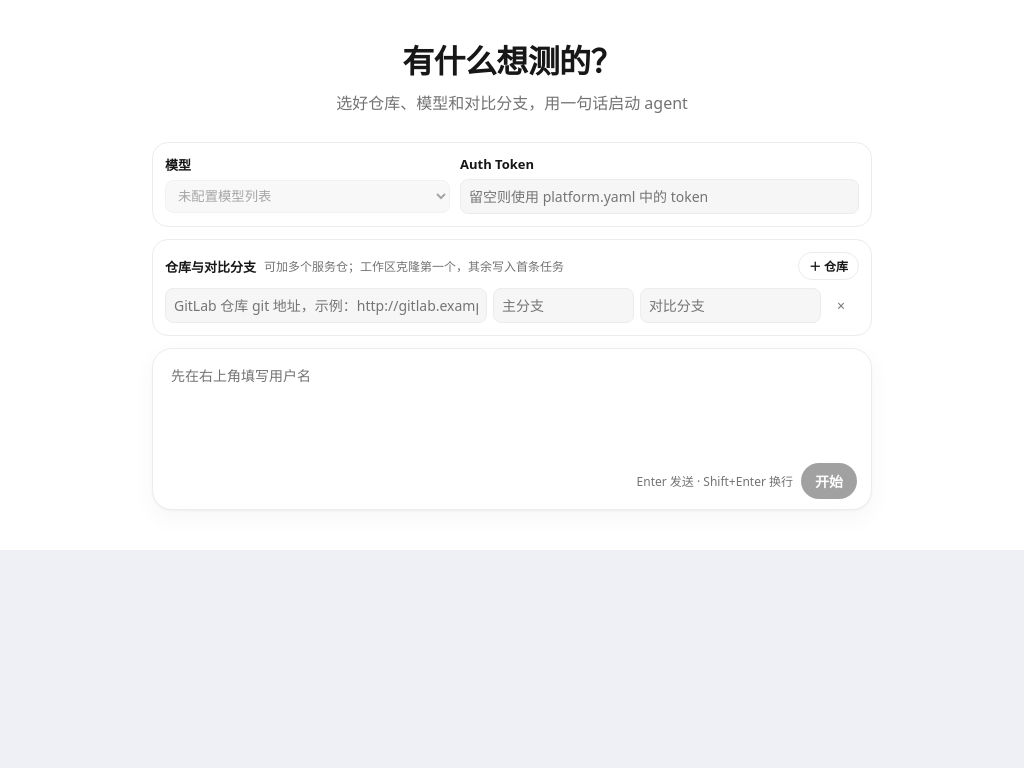
Test case: HomePanel model picker › requires username on start when yaml did not provide one
Replace the text in the field with placeholder "GitLab 仓库 git 地址，示例：http://gitlab.example.com/group/project.git" with "http://example.invalid/x.git" at (326, 306), box [165, 288, 487, 323]
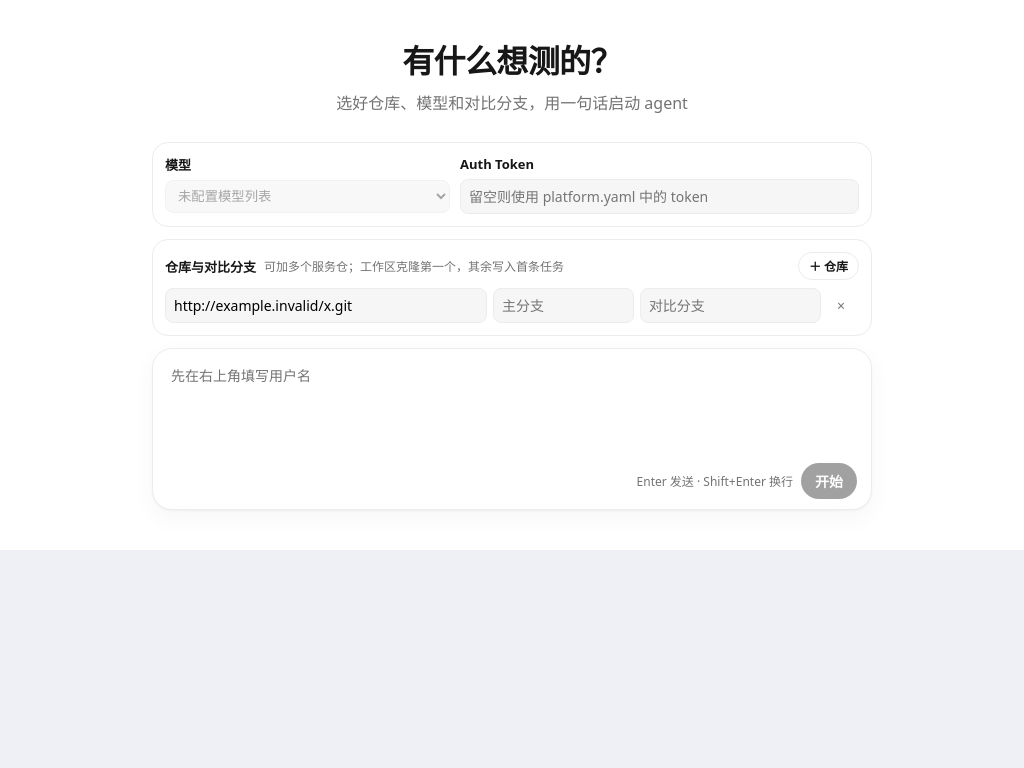
Type "feat/x" into the field with placeholder "对比分支" at (730, 306), box [640, 288, 821, 323]
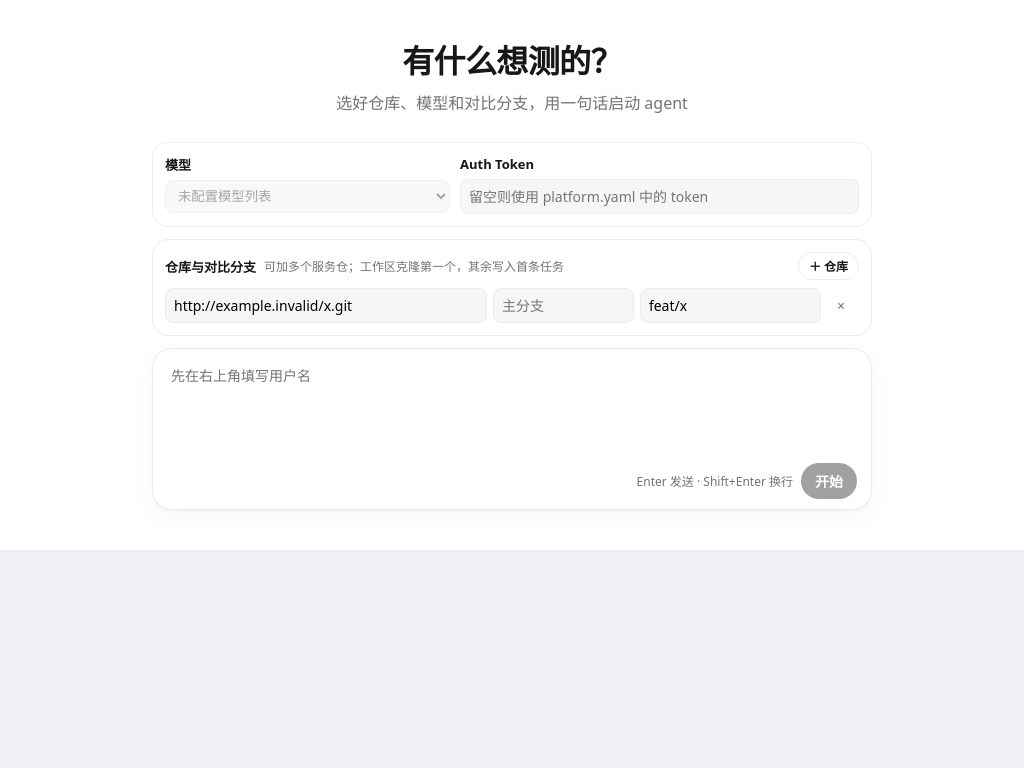
Type "测一下" into the text box with placeholder "先在右上角填写用户名" at (512, 407), box [167, 359, 857, 455]
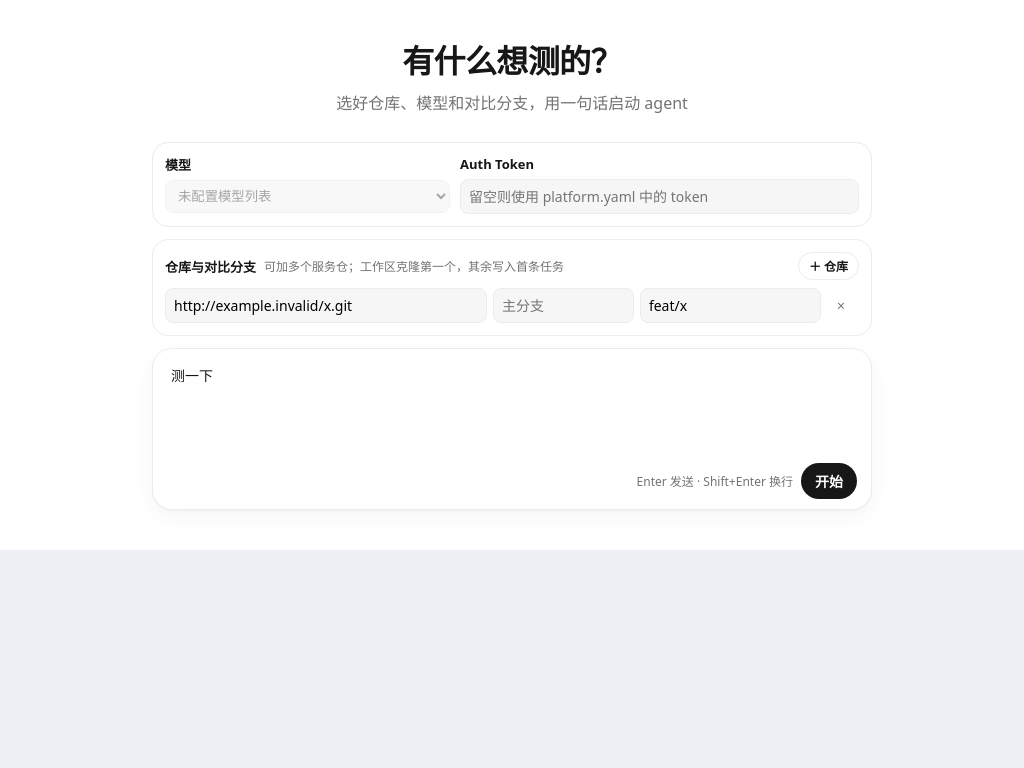
Click the button "开始" at (829, 481), box [801, 463, 857, 499]
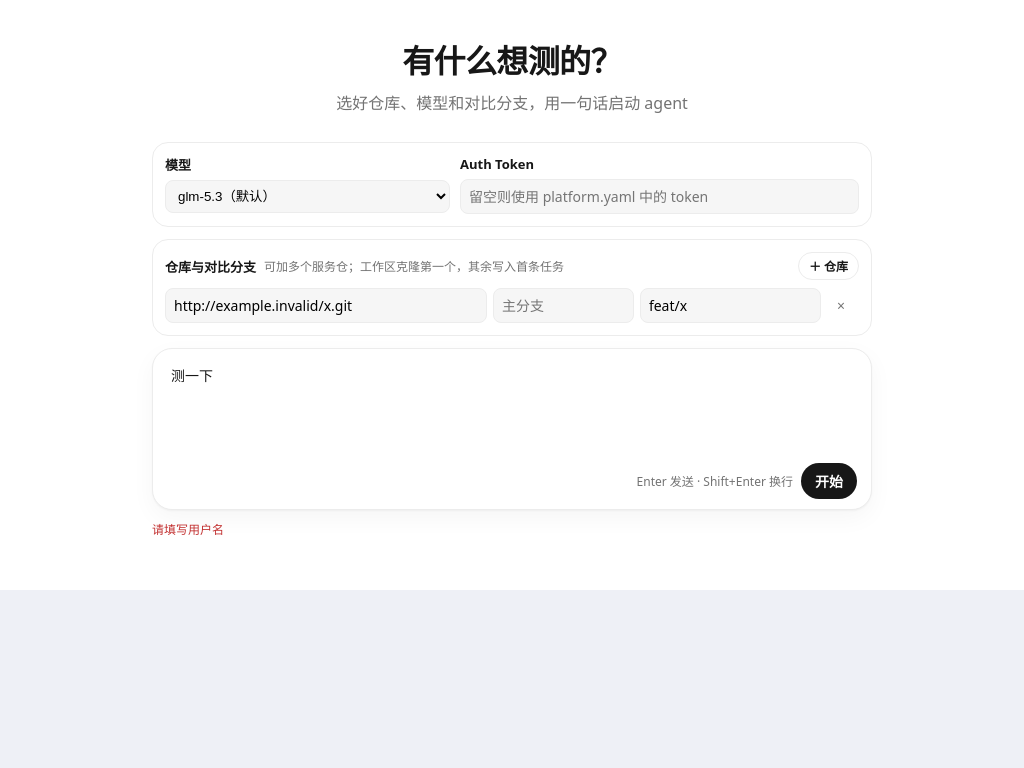
Now the text "请填写用户名" is shown, box [152, 521, 224, 538]
